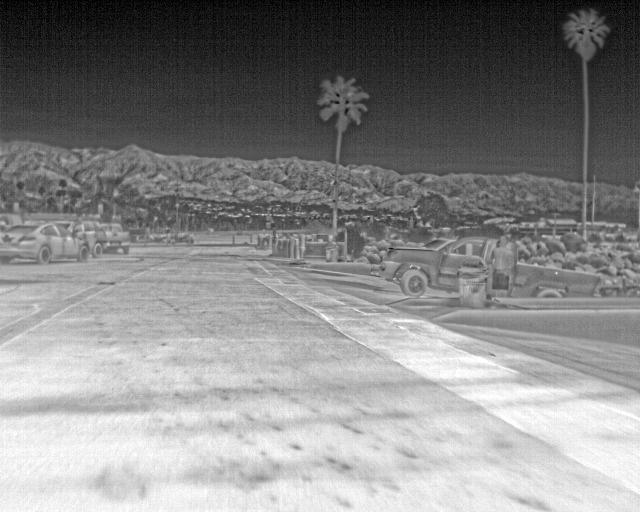bicycle: (381, 235, 487, 299), (1, 220, 89, 266), (511, 260, 603, 300), (73, 219, 104, 258), (101, 222, 130, 254), (422, 237, 454, 250)
